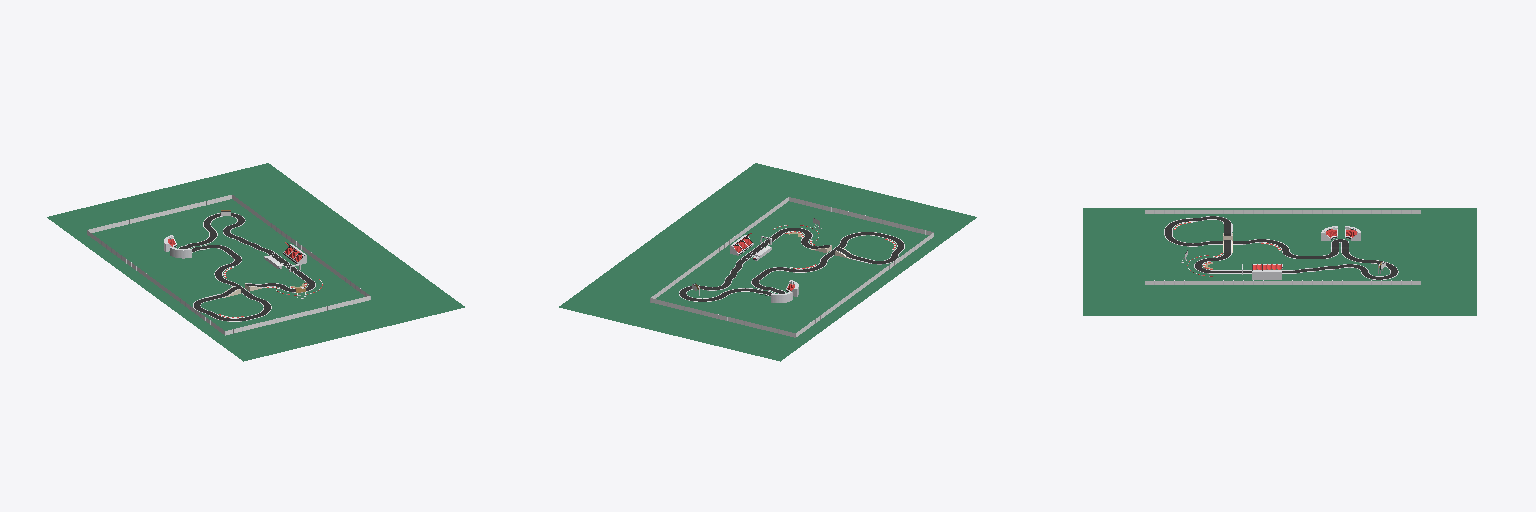
The model's file is racetrack.obj.
3 views of the same model, side by side, from view 1: azimuth 30°, elevation 25°; view 2: azimuth 150°, elevation 25°; view 3: azimuth 270°, elevation 25° (orthographic).
Parts seen in each view (by area): view 1: mergedBlocks; view 2: mergedBlocks; view 3: mergedBlocks.
Part boxes in pixels (left/top/right/bottom): mergedBlocks: left=47, top=163, right=464, bottom=361; mergedBlocks: left=559, top=163, right=976, bottom=361; mergedBlocks: left=1083, top=208, right=1476, bottom=315.
Bounding box in the file's own units: 260 × 13.95 × 400.